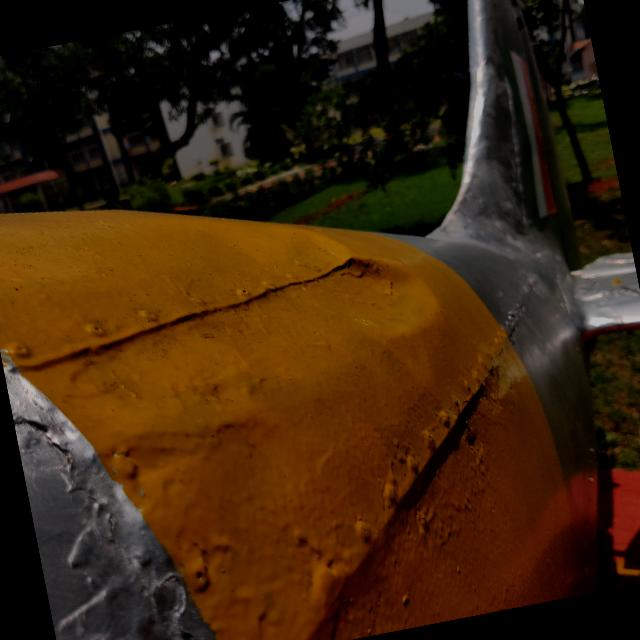dent: (302, 225, 465, 386)
